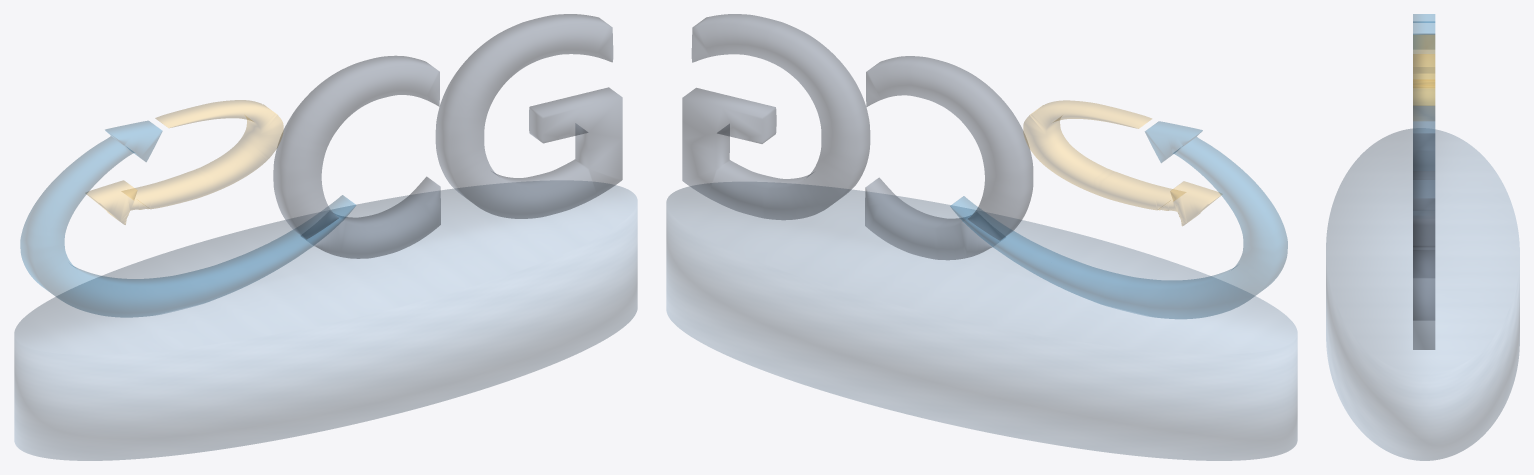
File: modelo_ecg_vidro.glb
The picture shows the model from 3 angles, left to right: view 1: azimuth 30°, elevation 25°; view 2: azimuth 150°, elevation 25°; view 3: azimuth 270°, elevation 25°; orthographic projection. The views are drawn at different scales.
Visible parts, largest first — view 1: base_glass, cg_dark, e_blue, e_orange; view 2: base_glass, cg_dark, e_blue, e_orange; view 3: base_glass, cg_dark, e_orange, e_blue.
Part boxes in pixels (<box>): base_glass: <box>14,181,637,460</box>; cg_dark: <box>273,14,622,258</box>; e_blue: <box>20,121,355,317</box>; e_orange: <box>85,100,283,224</box>; base_glass: <box>666,182,1297,460</box>; cg_dark: <box>682,14,1033,260</box>; e_blue: <box>950,121,1287,318</box>; e_orange: <box>1023,100,1221,225</box>; base_glass: <box>1326,128,1519,460</box>; cg_dark: <box>1413,105,1435,349</box>; e_orange: <box>1413,35,1435,120</box>; e_blue: <box>1413,14,1435,132</box>.
Size of the model in its own units: 104 by 47.9 by 34.61.
4 materials, 1 textured.
